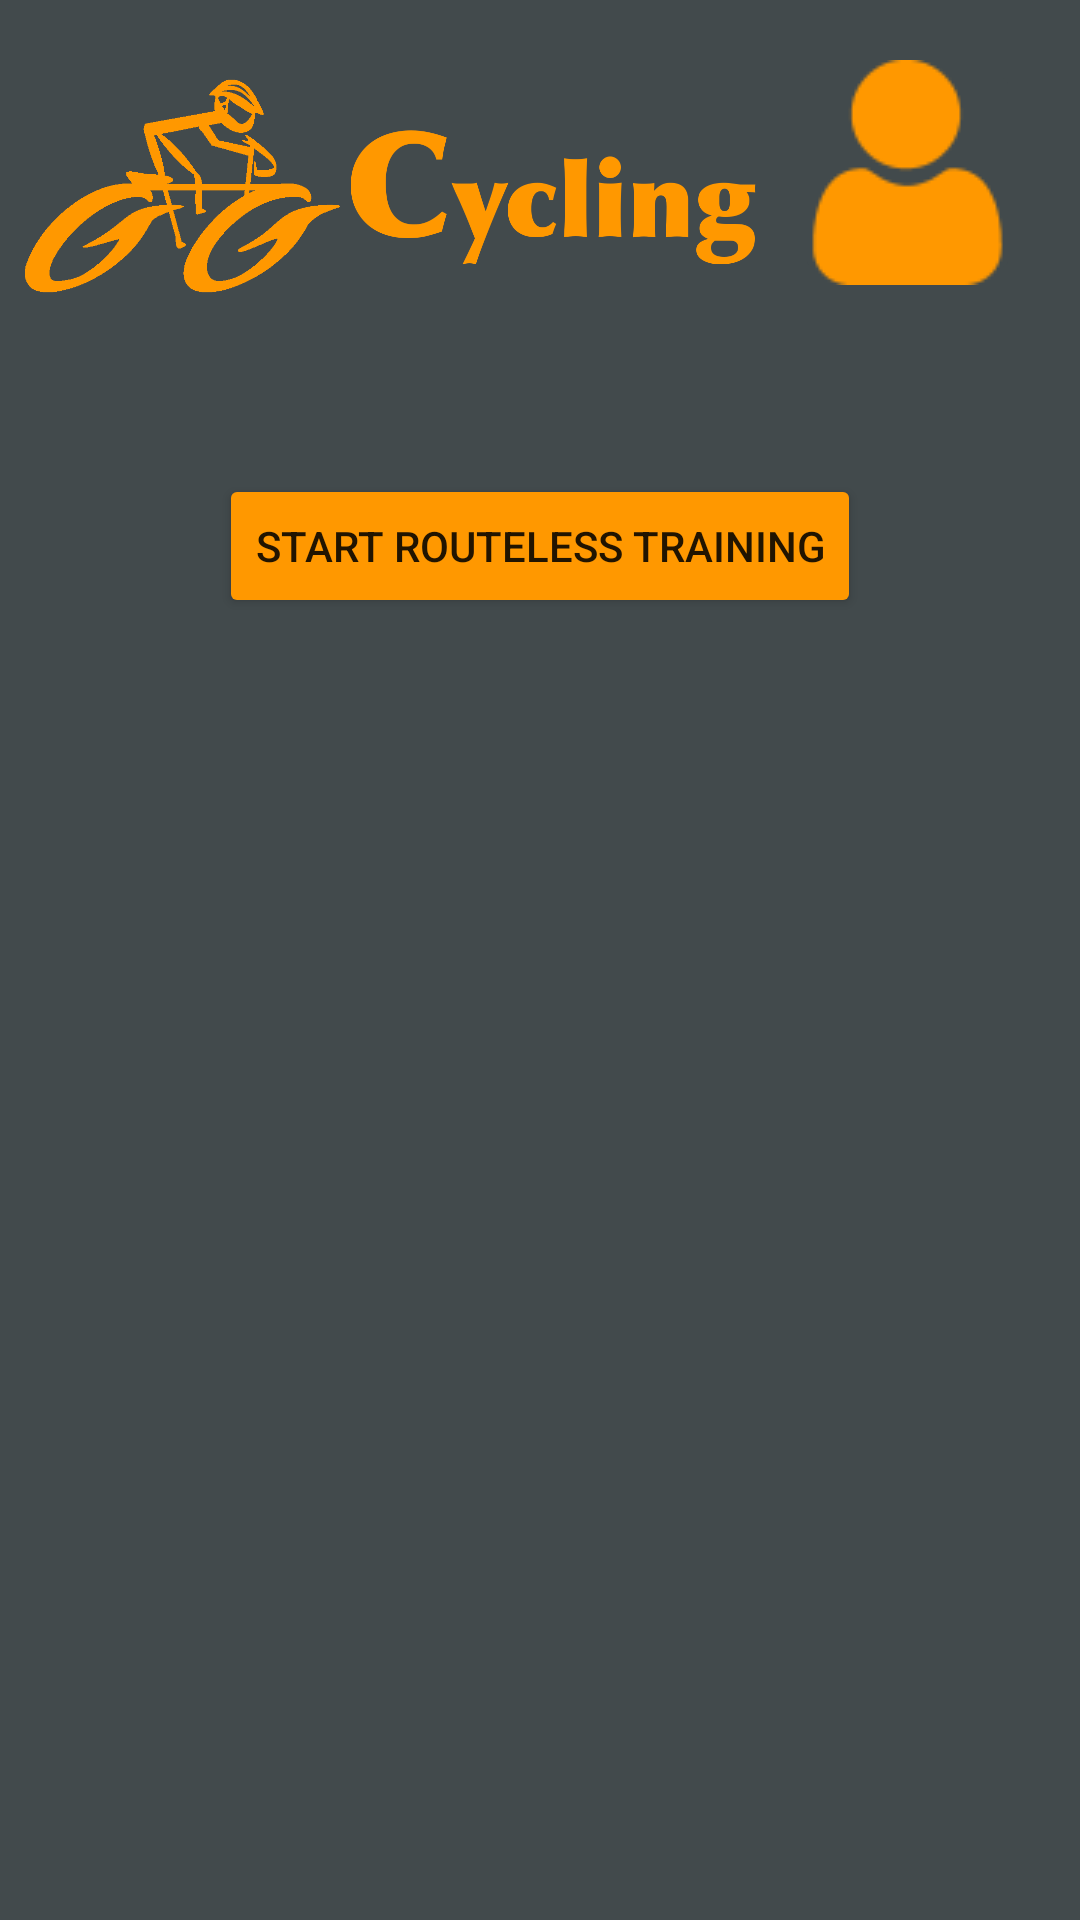

Screen size 1080 x 1920. Icon name, then its box in pixels as bbox=(x1, y1, x2, y2):
profile: bbox=(812, 60, 1003, 285)
